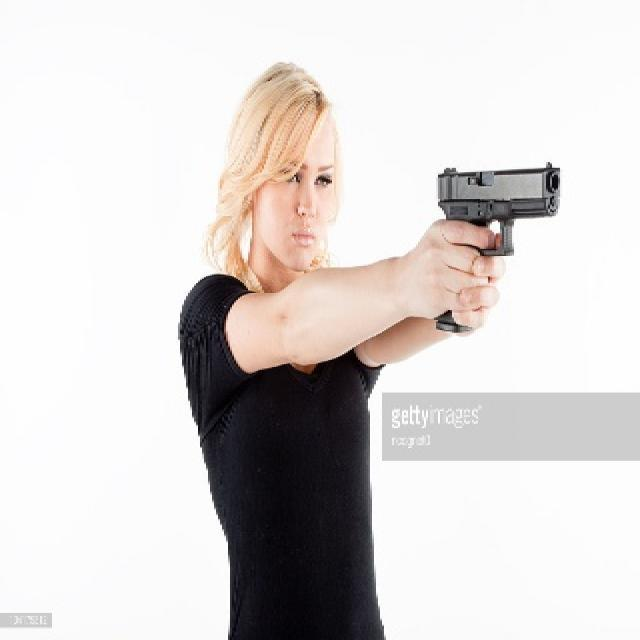weapon: (430, 159, 562, 336)
